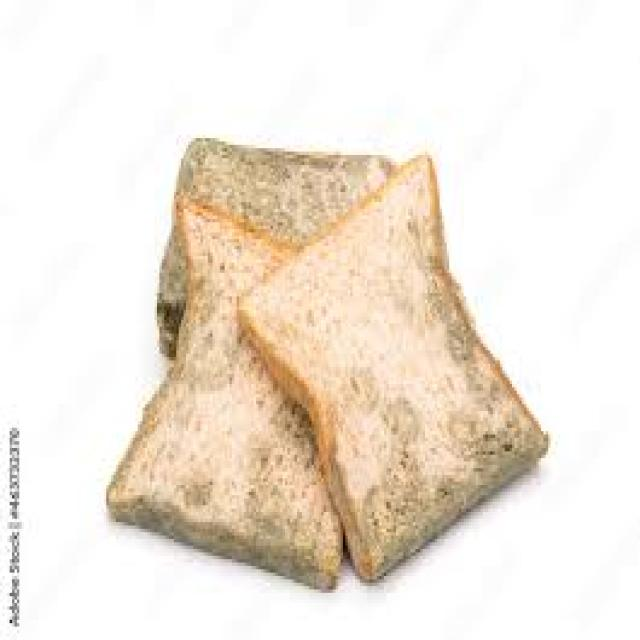Wet Waste: (131, 85, 518, 610)
